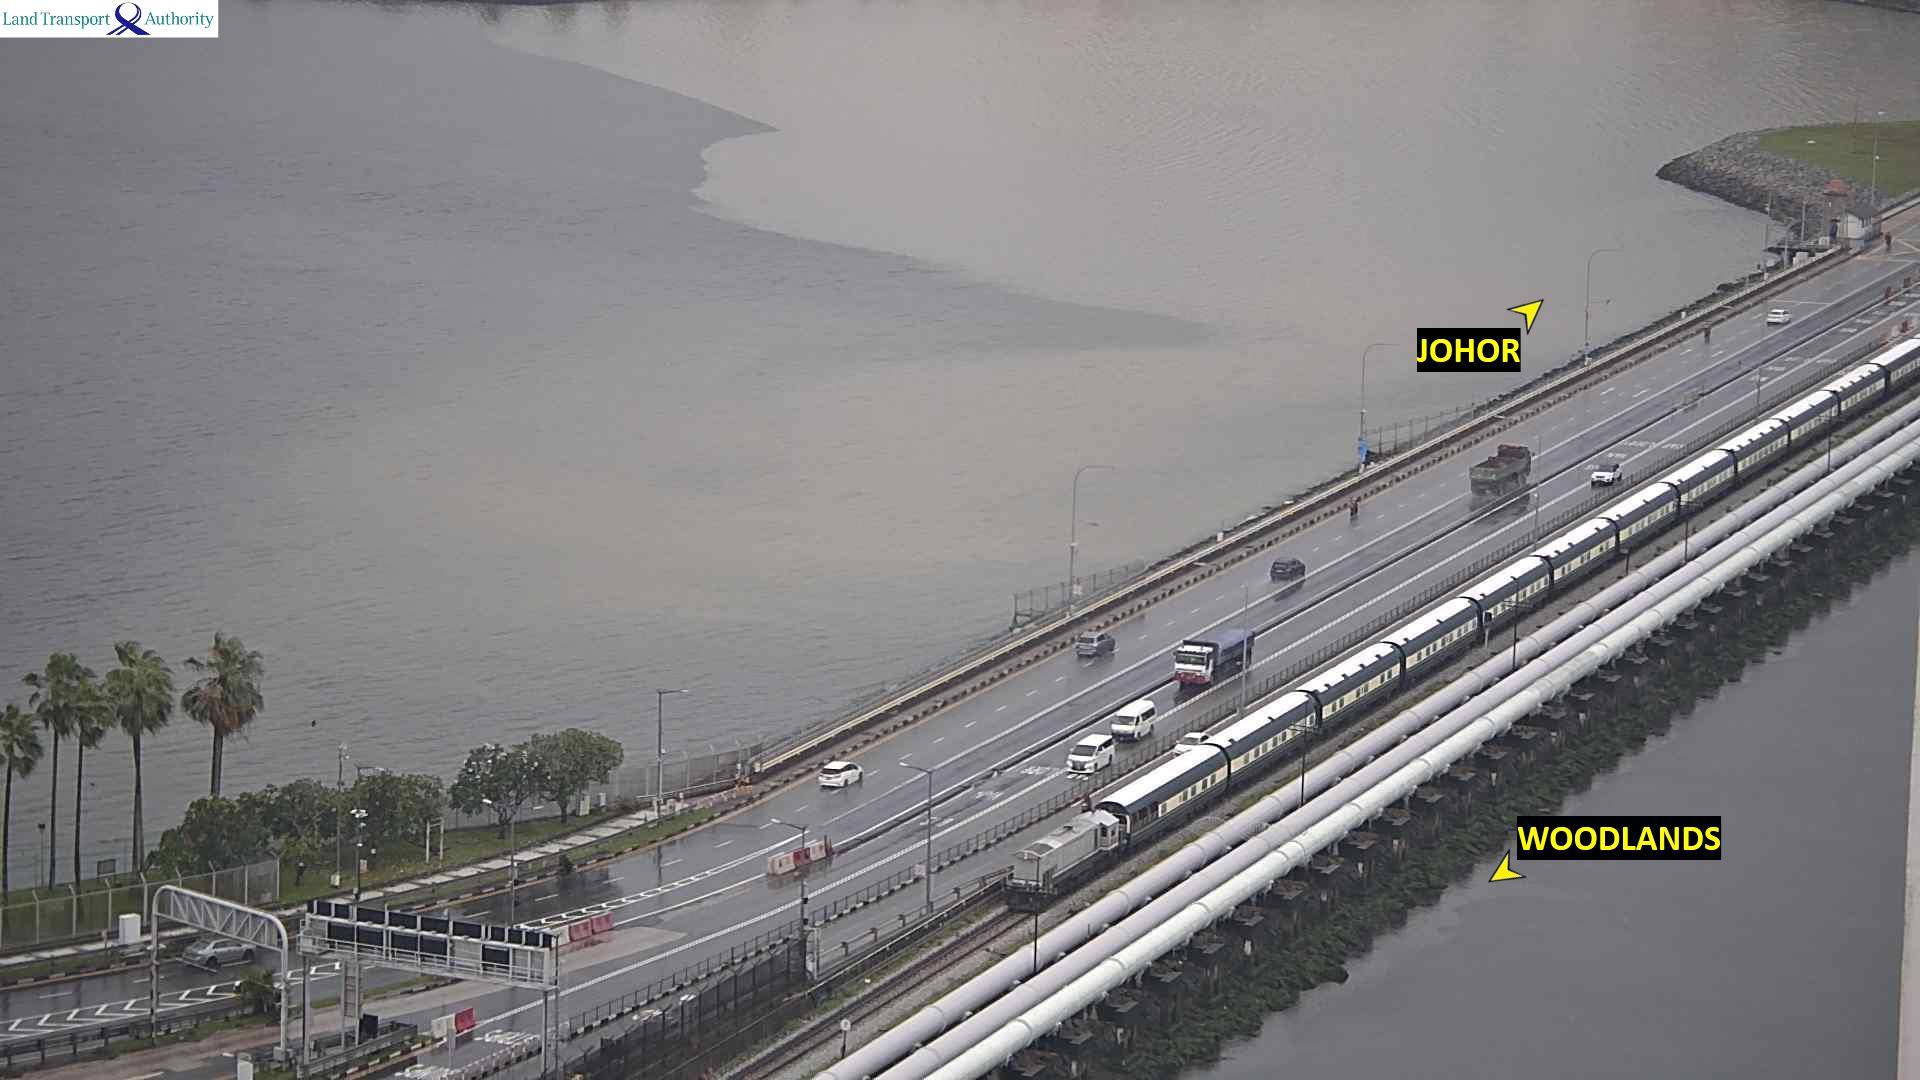vehicle-causeway-johor: (1470, 443, 1531, 492), (185, 940, 251, 964), (818, 764, 866, 789), (1073, 636, 1114, 659), (1270, 562, 1305, 582), (1764, 309, 1789, 323), (1884, 229, 1894, 245), (1350, 498, 1358, 513), (1704, 323, 1712, 336)
vehicle-causeway-singapore: (1174, 626, 1253, 682), (1064, 733, 1113, 771), (1113, 699, 1158, 740), (1593, 463, 1621, 485)
